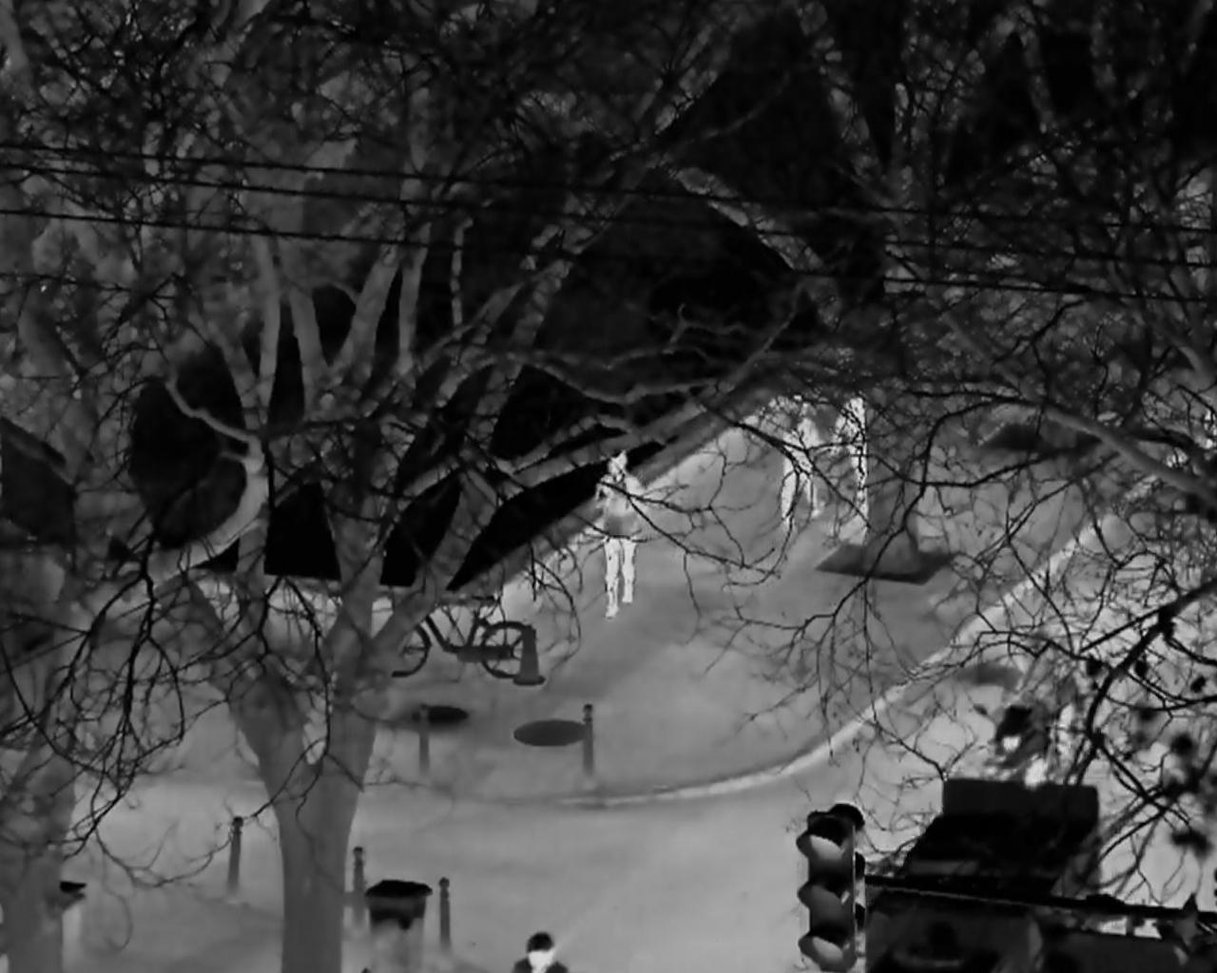person: (592, 450, 648, 619), (779, 401, 829, 531), (827, 396, 866, 500)
